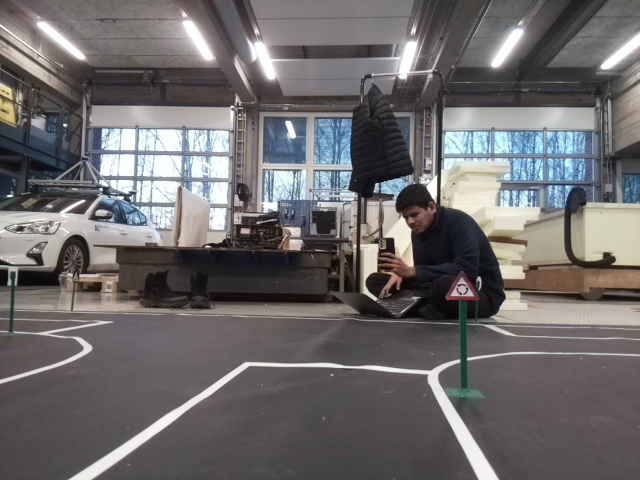Roundabout: (446, 270, 479, 303)
